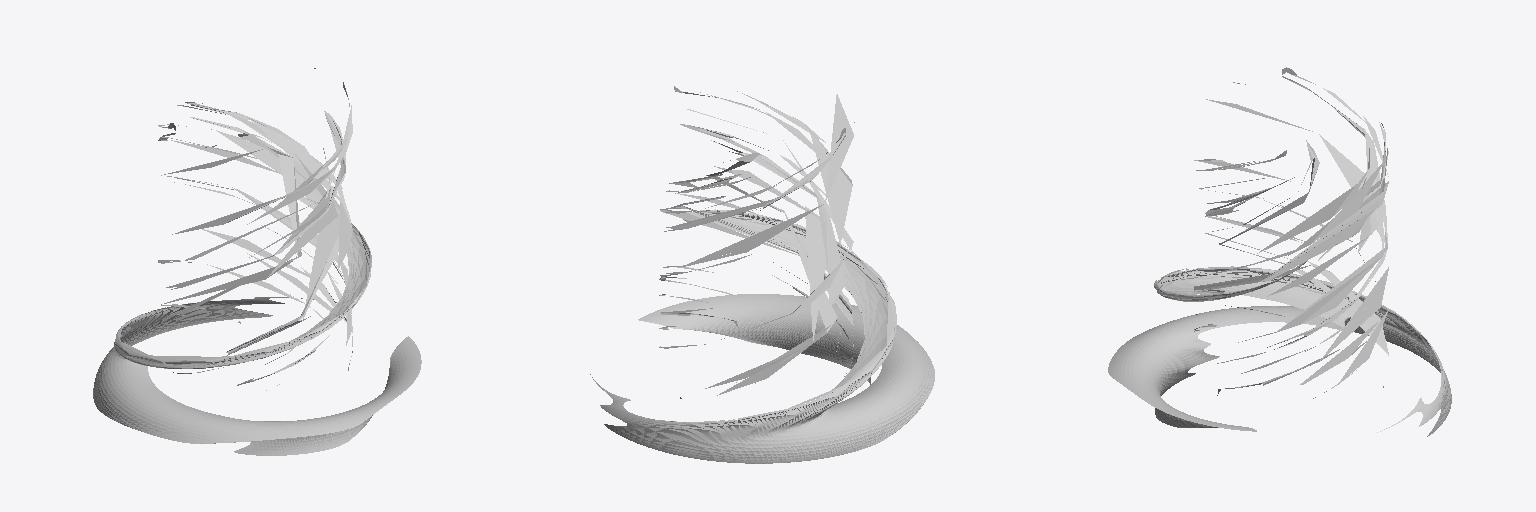
File: SpiralTor.obj
3 views of the same model, side by side, from view 1: azimuth 30°, elevation 25°; view 2: azimuth 150°, elevation 25°; view 3: azimuth 270°, elevation 25° (orthographic).
Parts seen in each view (by area): view 1: Meshpart1; view 2: Meshpart1; view 3: Meshpart1.
Boxes of the visible parts, x1,y1,x2,y2 form: Meshpart1: [93, 68, 421, 455]; Meshpart1: [590, 86, 934, 463]; Meshpart1: [1108, 67, 1451, 436].
Size of the model in its own units: 16.23 by 16.48 by 17.06.